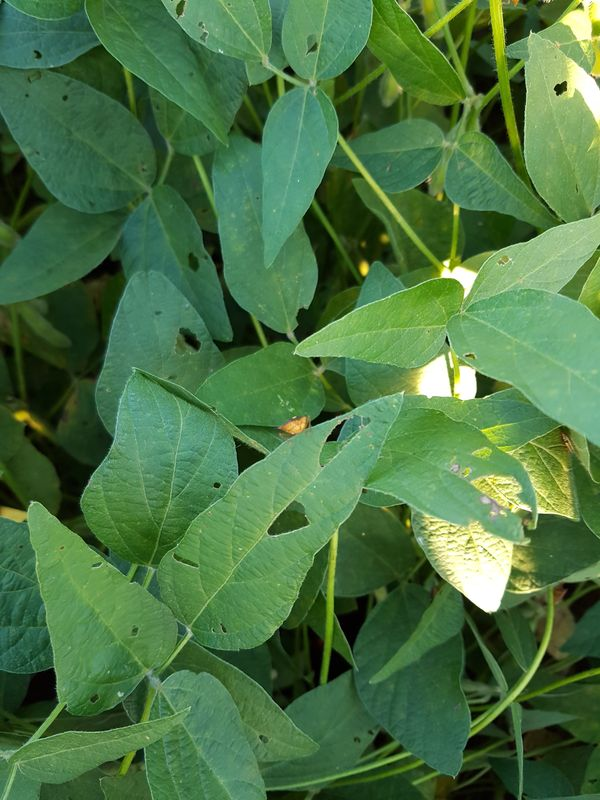Euschistus_heros_adulto: (268, 410, 315, 446)
